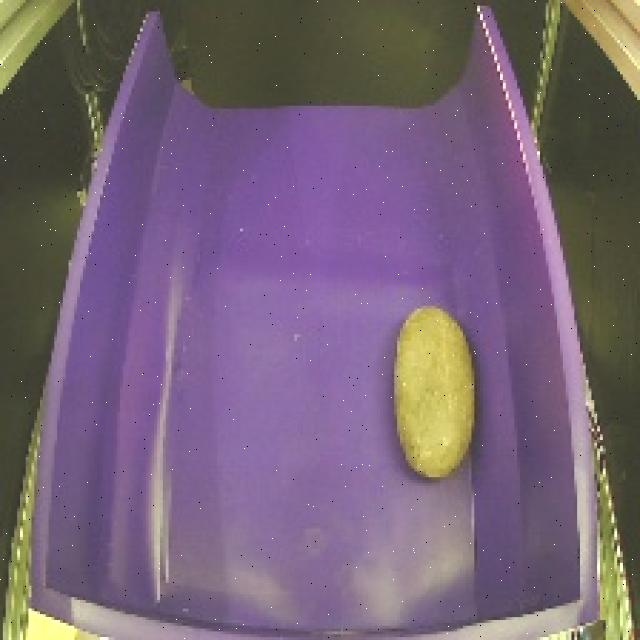cobbles: (377, 293, 486, 490)
